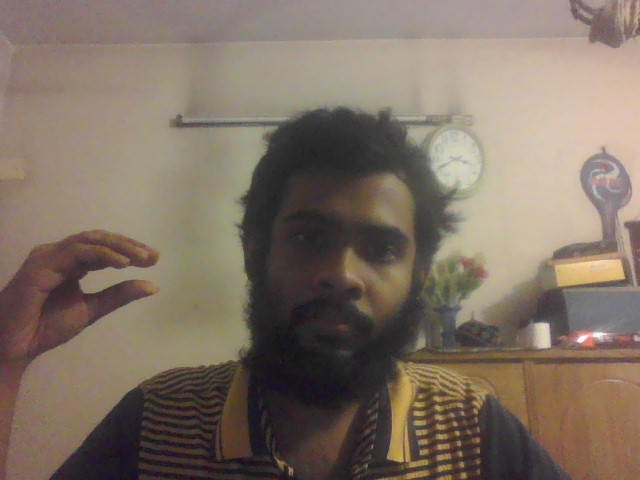No: (1, 230, 160, 357)
